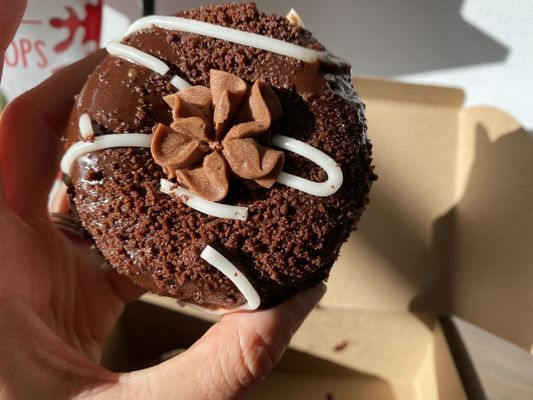sushi: (56, 3, 377, 316)
